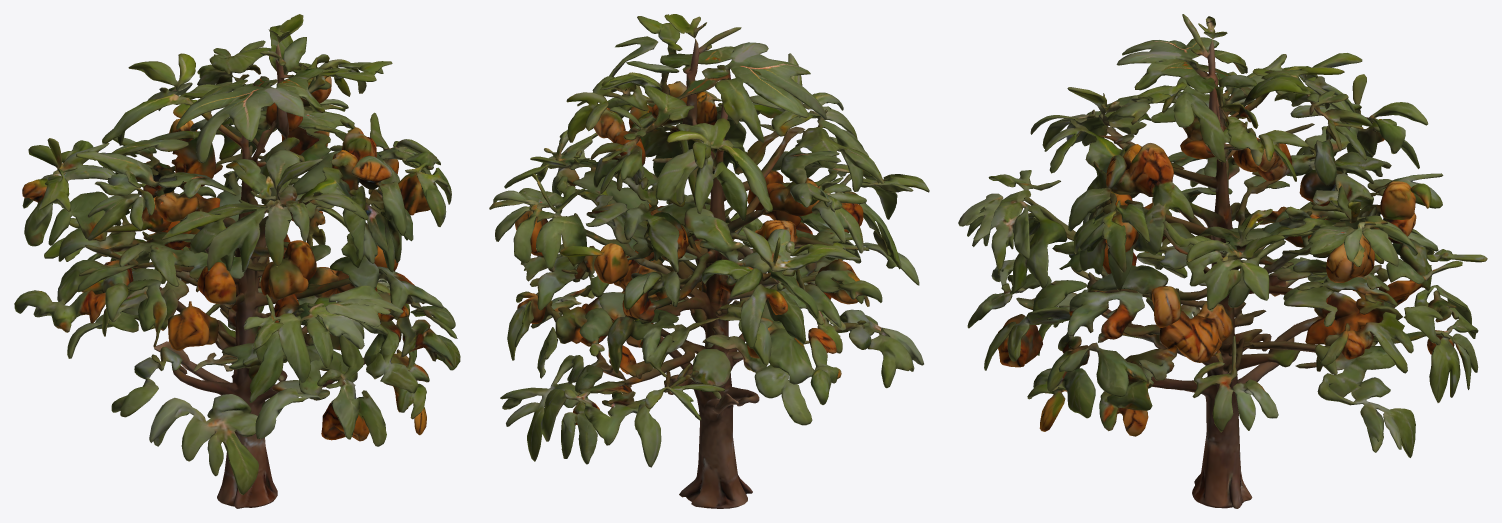
File: nature-tree-walnut.glb
3 views of the same model, side by side, from view 1: azimuth 30°, elevation 25°; view 2: azimuth 150°, elevation 25°; view 3: azimuth 270°, elevation 25° (orthographic). The views are drawn at different scales.
Visible parts, largest first — view 1: tripo_node_5fbc8c71-3a5c-499d-8b01-1676c2aba42b; view 2: tripo_node_5fbc8c71-3a5c-499d-8b01-1676c2aba42b; view 3: tripo_node_5fbc8c71-3a5c-499d-8b01-1676c2aba42b.
Part boxes in pixels (x1,y1,x2,y2): tripo_node_5fbc8c71-3a5c-499d-8b01-1676c2aba42b: [14, 14, 460, 508]; tripo_node_5fbc8c71-3a5c-499d-8b01-1676c2aba42b: [489, 14, 929, 508]; tripo_node_5fbc8c71-3a5c-499d-8b01-1676c2aba42b: [958, 14, 1487, 508].
Bounding box in the file's own units: 7.36 × 9 × 8.79.
Materials: 1 (1 with a texture image).
